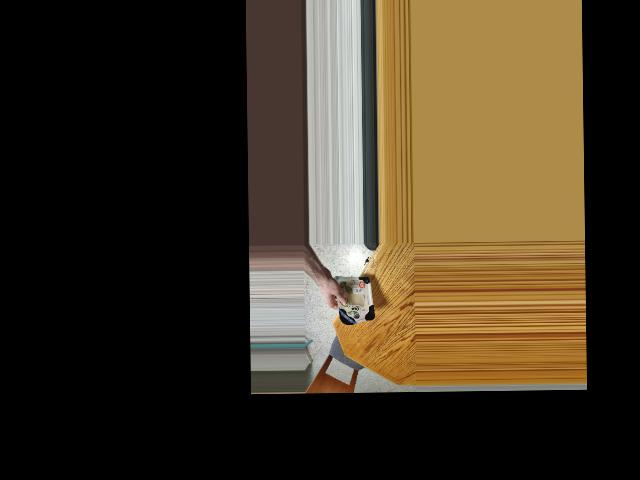cheese: (334, 269, 370, 327)
